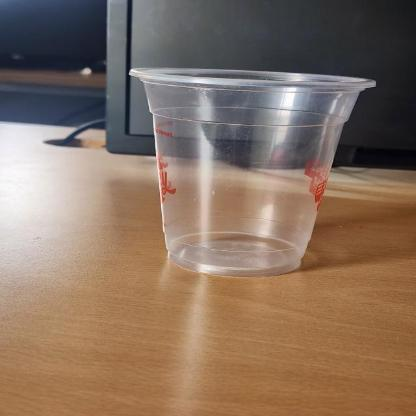Plastic Cup: (127, 60, 381, 278)
